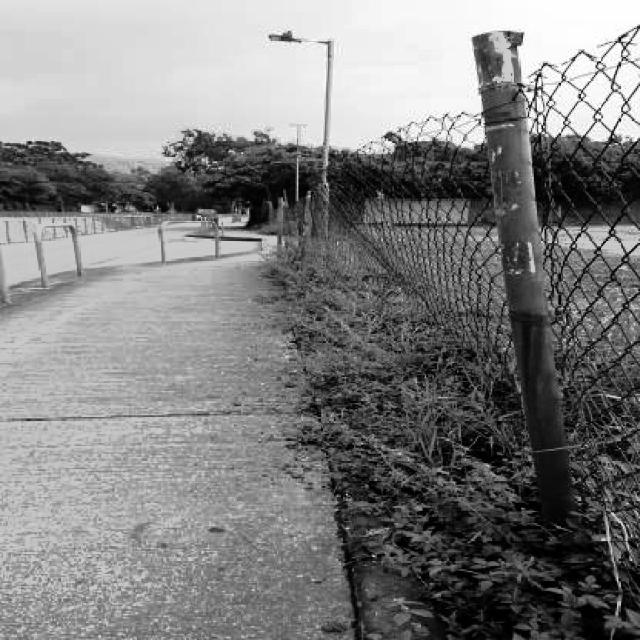anomaly-fence: (270, 48, 462, 379)
